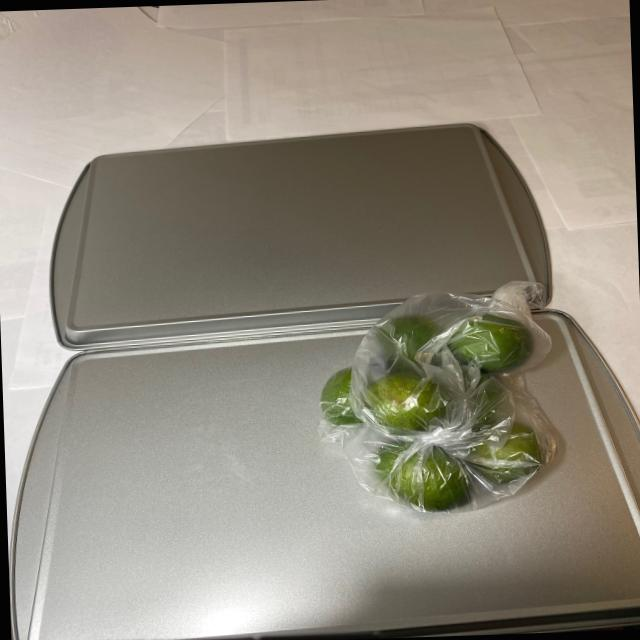lemon: (323, 305, 554, 516)
